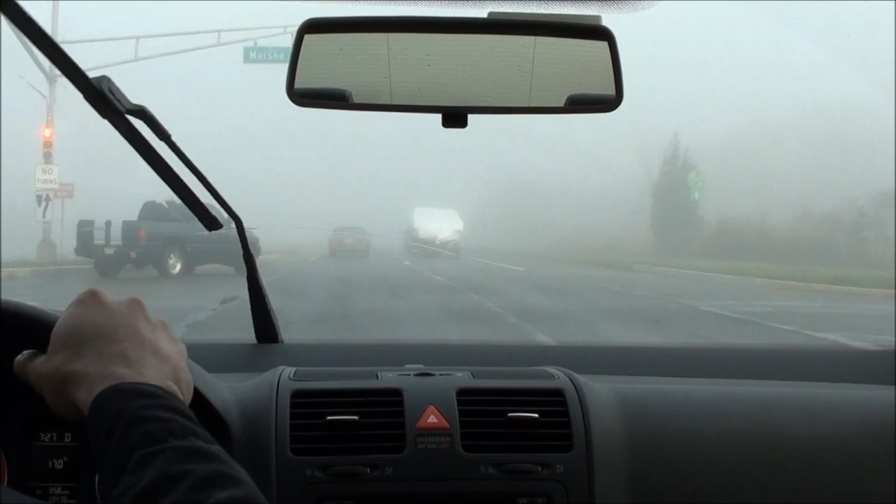bus: (403, 205, 466, 260)
car: (73, 194, 262, 280), (326, 224, 375, 257)
